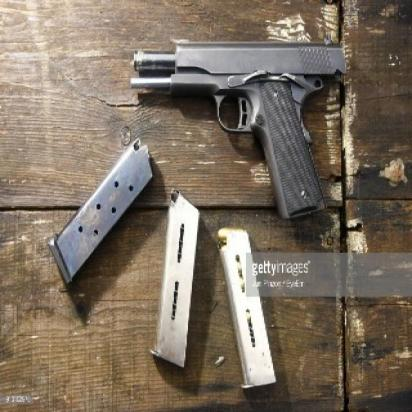Gun: (126, 34, 350, 213)
